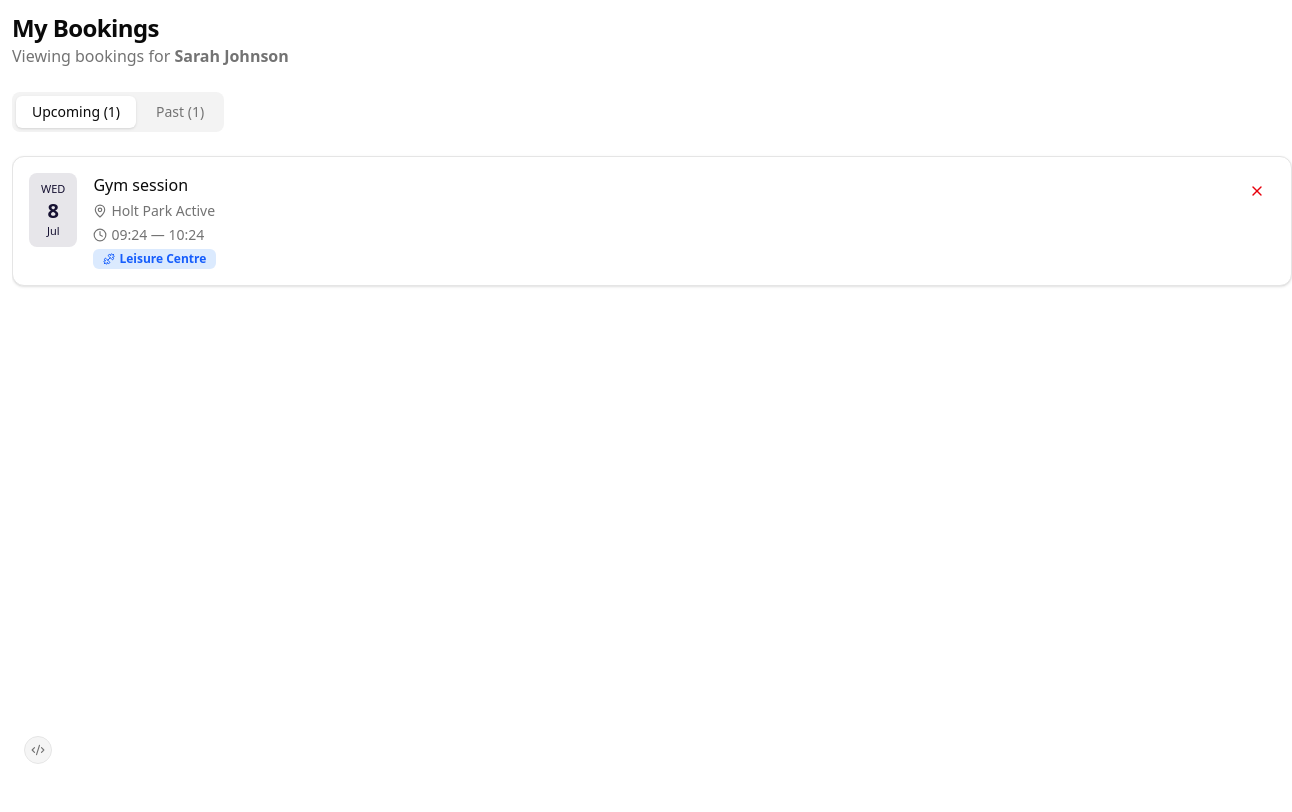
Test: MyBookingsPage › switches to the Past tab and shows past bookings
This screenshot has width=1292, height=812.
Check: the text "Gym session" is shown, box top-left (93, 173), bottom-right (188, 197)
Click the button "Past (1)": (180,112) top-left (140, 96), bottom-right (220, 128)
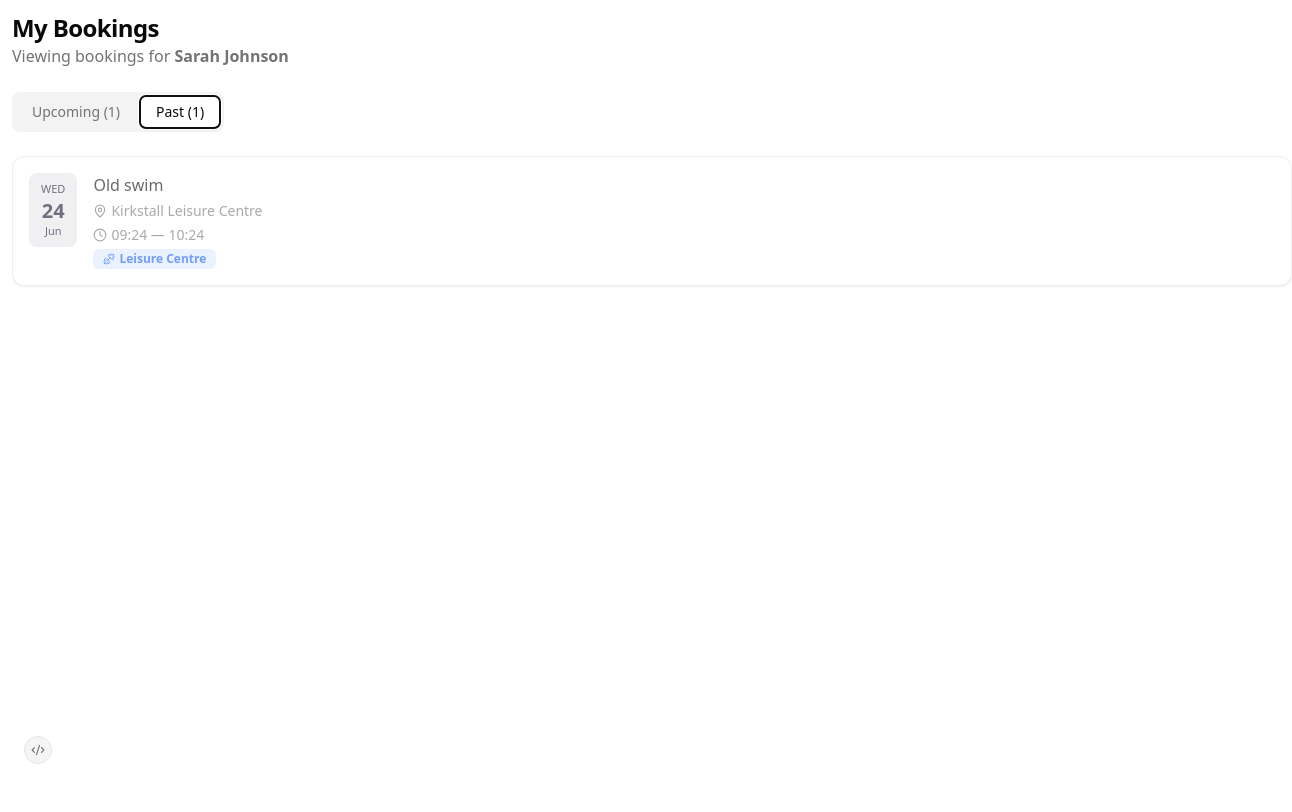
Check: the text "Old swim" is shown, box top-left (93, 173), bottom-right (163, 197)
Check: the text "Gym session" is gone
